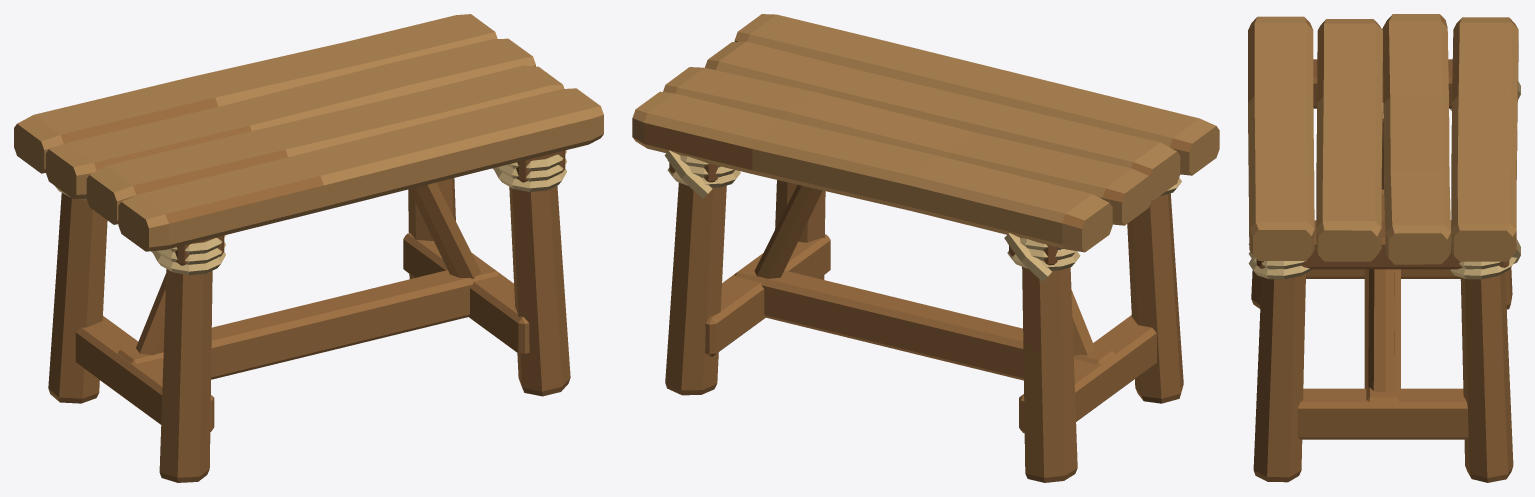
The model's file is work_surface_plank_01.glb.
3 renders of one model, left to right at view 1: azimuth 30°, elevation 25°; view 2: azimuth 150°, elevation 25°; view 3: azimuth 270°, elevation 25°, orthographic. The views are drawn at different scales.
Visible parts, largest first — view 1: work_surface_plank_01, work_surface_plank_01__long_stretcher, work_surface_plank_01__leg, work_surface_plank_01__leg.002, work_surface_plank_01__leg.001, work_surface_plank_01__foot_rail, work_surface_plank_01__foot_rail.001, work_surface_plank_01__diagonal_brace.001, work_surface_plank_01__diagonal_brace, work_surface_plank_01__leg.003, work_surface_plank_01__upper_joint0, work_surface_plank_01__upper_joint0.002; view 2: work_surface_plank_01, work_surface_plank_01__long_stretcher, work_surface_plank_01__leg.001, work_surface_plank_01__leg.003, work_surface_plank_01__leg, work_surface_plank_01__foot_rail, work_surface_plank_01__foot_rail.001, work_surface_plank_01__diagonal_brace.001, work_surface_plank_01__leg.002, work_surface_plank_01__diagonal_brace, work_surface_plank_01__upper_joint_cross.001, work_surface_plank_01__upper_joint_cross.003; view 3: work_surface_plank_01, work_surface_plank_01__leg.003, work_surface_plank_01__leg.002, work_surface_plank_01__foot_rail.001, work_surface_plank_01__diagonal_brace.001, work_surface_plank_01__top_bearer.001, work_surface_plank_01__long_stretcher, work_surface_plank_01__foot_rail, work_surface_plank_01__upper_joint0.003, work_surface_plank_01__upper_joint0.002, work_surface_plank_01__top_bearer, work_surface_plank_01__upper_joint1.002 (+2 smaller).
Boxes of the visible parts, x1,y1,x2,y2 form: work_surface_plank_01: (14, 14, 603, 251); work_surface_plank_01__long_stretcher: (117, 261, 499, 379); work_surface_plank_01__leg: (159, 269, 212, 482); work_surface_plank_01__leg.002: (509, 186, 570, 396); work_surface_plank_01__leg.001: (48, 193, 107, 403); work_surface_plank_01__foot_rail: (75, 316, 214, 431); work_surface_plank_01__foot_rail.001: (403, 233, 529, 356); work_surface_plank_01__diagonal_brace.001: (409, 182, 481, 278); work_surface_plank_01__diagonal_brace: (136, 273, 166, 355); work_surface_plank_01__leg.003: (408, 178, 455, 278); work_surface_plank_01__upper_joint0: (152, 250, 225, 275); work_surface_plank_01__upper_joint0.002: (493, 167, 566, 191); work_surface_plank_01: (632, 14, 1219, 252); work_surface_plank_01__long_stretcher: (734, 262, 1114, 380); work_surface_plank_01__leg.001: (1022, 266, 1077, 482); work_surface_plank_01__leg.003: (665, 182, 726, 395); work_surface_plank_01__leg: (1127, 193, 1183, 403); work_surface_plank_01__foot_rail: (1019, 315, 1156, 433); work_surface_plank_01__foot_rail.001: (705, 234, 830, 356); work_surface_plank_01__diagonal_brace.001: (754, 185, 822, 278); work_surface_plank_01__leg.002: (775, 180, 825, 279); work_surface_plank_01__diagonal_brace: (1071, 289, 1095, 355); work_surface_plank_01__upper_joint_cross.001: (1004, 233, 1051, 281); work_surface_plank_01__upper_joint_cross.003: (664, 150, 712, 198); work_surface_plank_01: (1248, 14, 1518, 264); work_surface_plank_01__leg.003: (1460, 272, 1513, 482); work_surface_plank_01__leg.002: (1253, 273, 1305, 482); work_surface_plank_01__foot_rail.001: (1297, 388, 1468, 439); work_surface_plank_01__diagonal_brace.001: (1368, 189, 1394, 391); work_surface_plank_01__top_bearer.001: (1256, 220, 1509, 269); work_surface_plank_01__long_stretcher: (1364, 269, 1400, 401); work_surface_plank_01__foot_rail: (1306, 269, 1460, 278); work_surface_plank_01__upper_joint0.003: (1450, 257, 1516, 279); work_surface_plank_01__upper_joint0.002: (1248, 259, 1311, 279); work_surface_plank_01__top_bearer: (1313, 59, 1452, 108); work_surface_plank_01__upper_joint1.002: (1249, 251, 1306, 269).
Bounding box in the file's own units: 1.49 × 0.8575 × 0.789.
